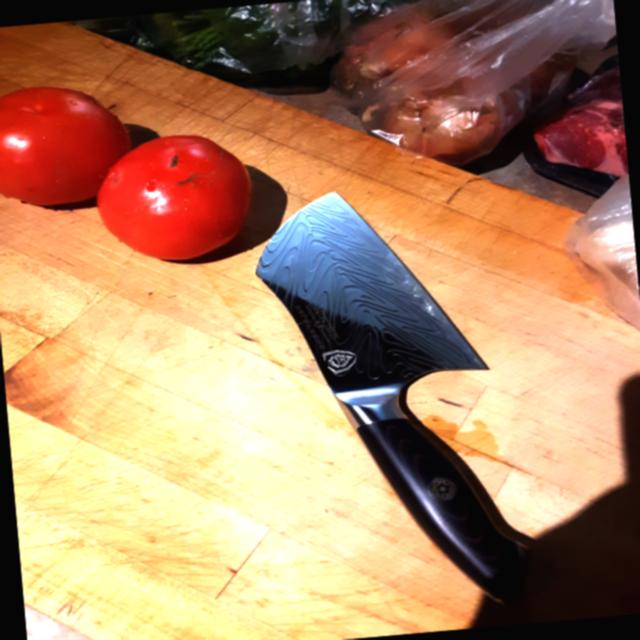cleaver: (247, 177, 562, 629)
